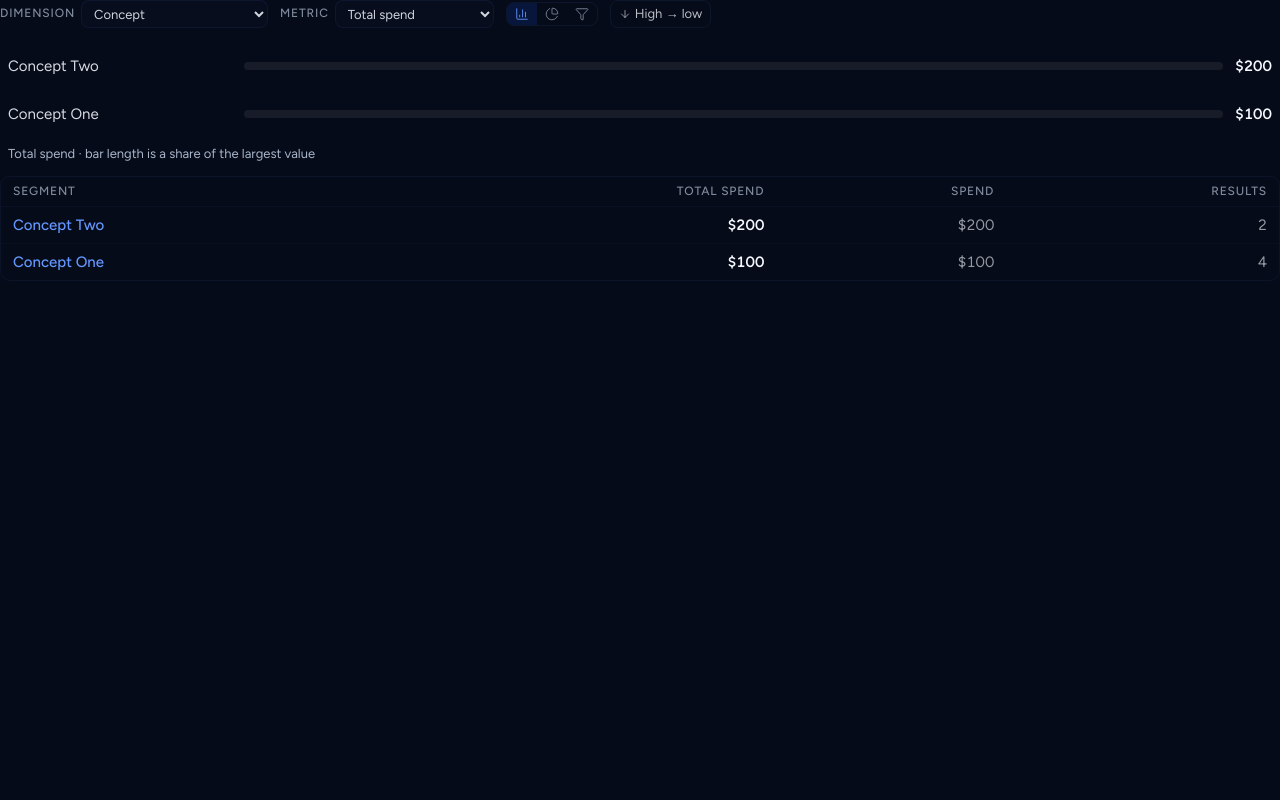
it: BreakdownExplorer › chains a segment into the deep-dive panel when the provider is mounted
The width and height of the screenshot is (1280, 800).
Click the button with test id "breakdown-segment-Concept One": (58, 262) [13,250,104,274]
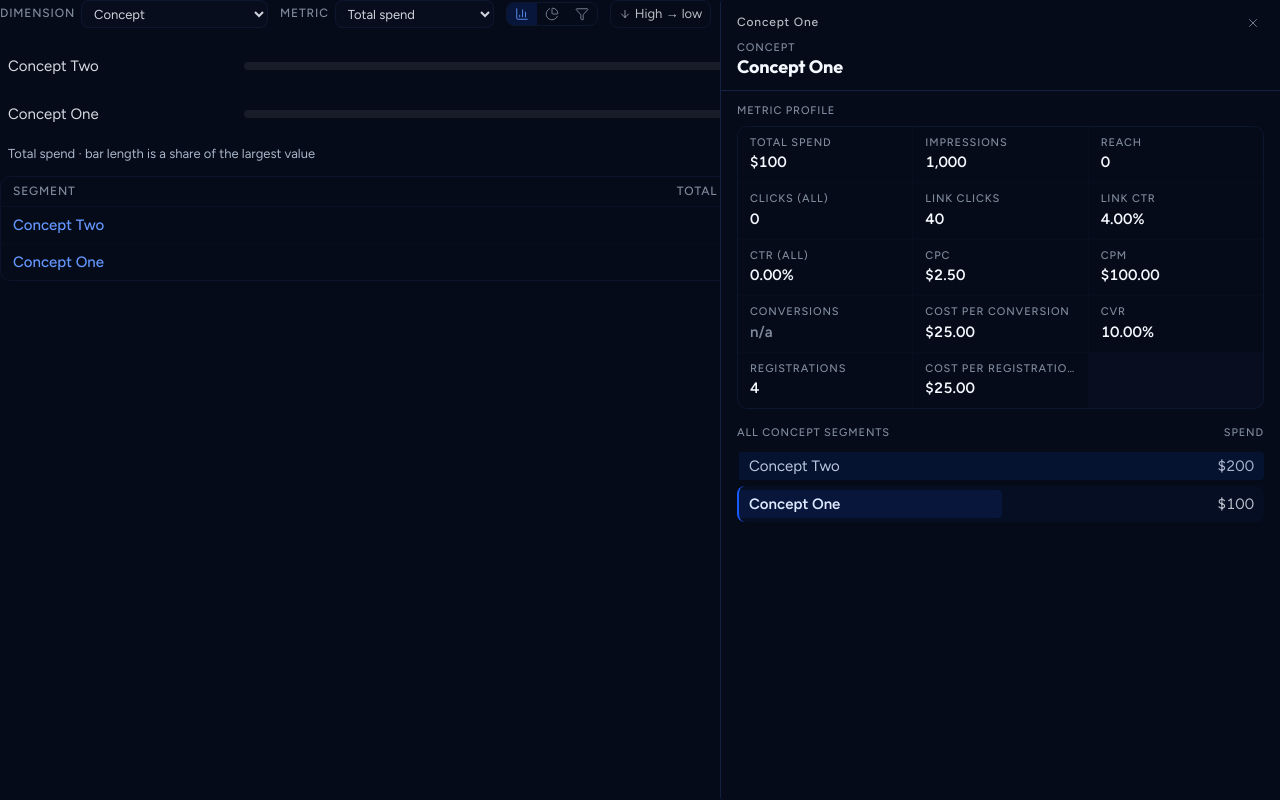
Expected: the dialog with test id "deep-dive-panel" is shown, [720,0,1279,799]
Expected: the heading with test id "deep-dive-title" reads "Concept One", [737,55,843,78]
